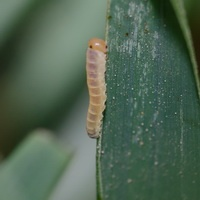insect: (86, 38, 105, 137)
